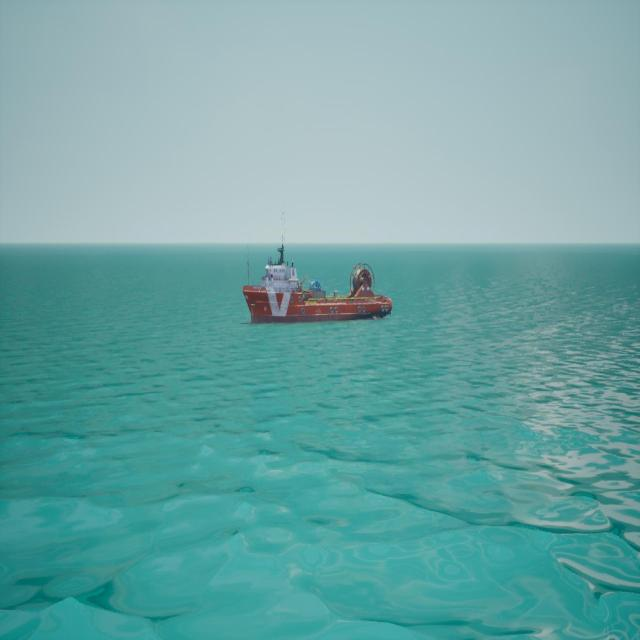tug boat: (243, 231, 393, 330)
